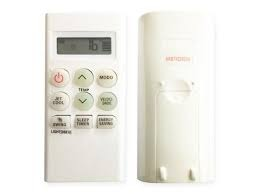remote control: (138, 15, 219, 181), (45, 18, 124, 183)
